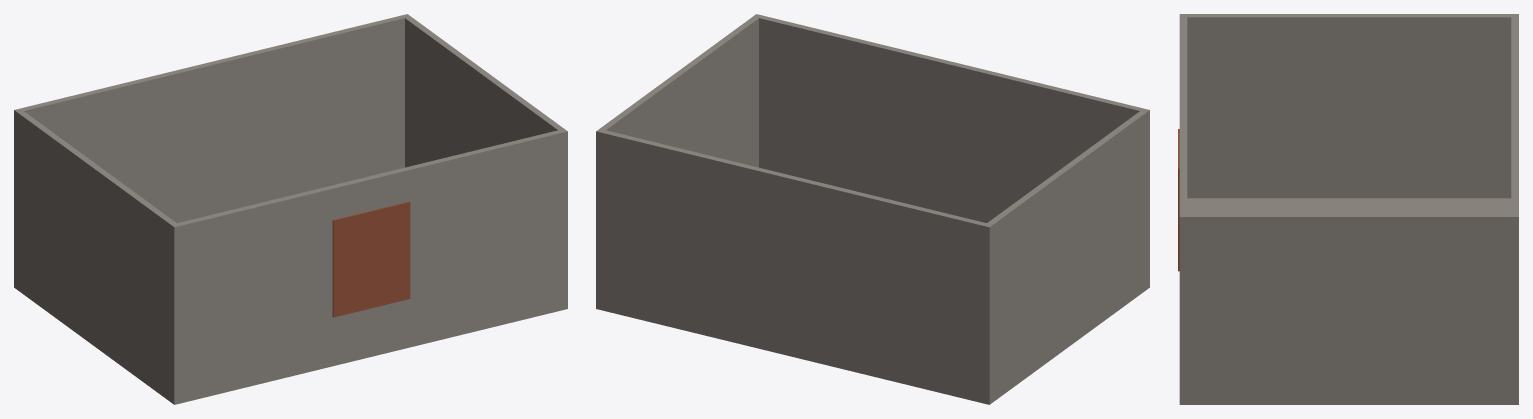
Rendered from shipping_carton_body.glb.
The picture shows the model from 3 angles, left to right: view 1: azimuth 30°, elevation 25°; view 2: azimuth 150°, elevation 25°; view 3: azimuth 270°, elevation 25°; orthographic projection. The views are drawn at different scales.
Visible parts, largest first — view 1: shipping_carton_body_plastic, shipping_carton_body_accent; view 2: shipping_carton_body_plastic; view 3: shipping_carton_body_plastic.
Part boxes in pixels (box(x1,y1,x2,y2)): shipping_carton_body_plastic: box(14, 14, 567, 404); shipping_carton_body_accent: box(332, 201, 410, 317); shipping_carton_body_plastic: box(596, 14, 1149, 404); shipping_carton_body_plastic: box(1179, 14, 1518, 404).
Bounding box in the file's own units: 0.255 × 0.11 × 0.1808.
